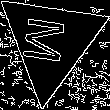M_E: (24, 16, 77, 69)
